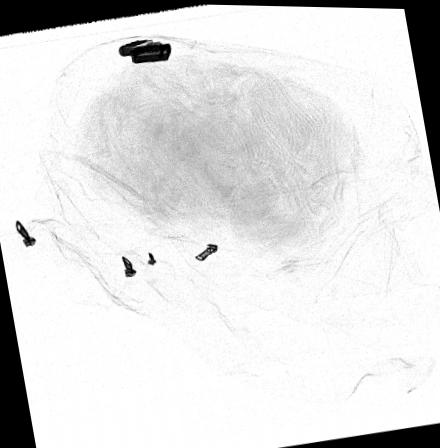Lighter: (118, 38, 172, 63)
